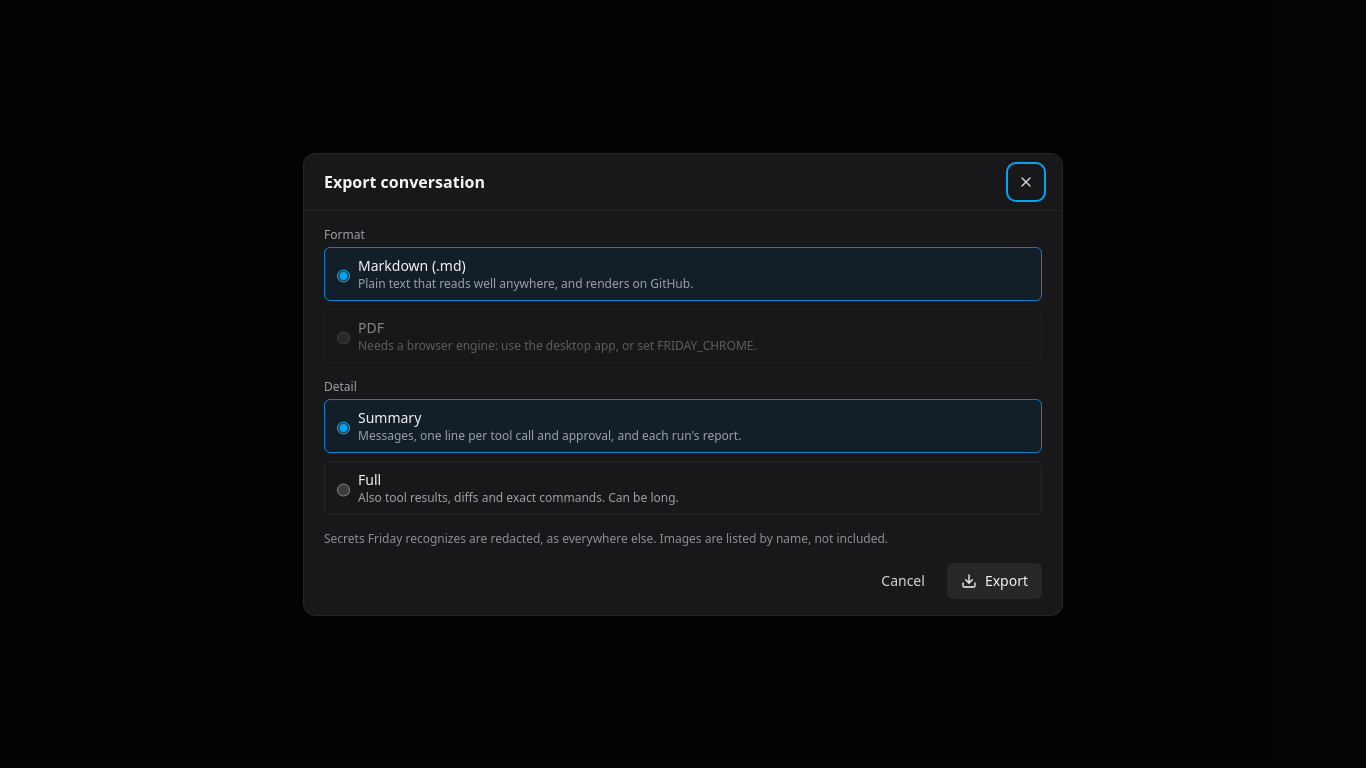
export dialog › offers only Markdown without a browser engine, and shows errors
Expected: the radio button labelled "PDF" is disabled, [337,322,350,354]
Expected: the text "Needs a browser engine" is shown, [358,336,757,354]
What coordinates should you click on to do the following:
click the button "Export"
I would click on:
 (994, 580)
Its box is [947,562,1042,598].
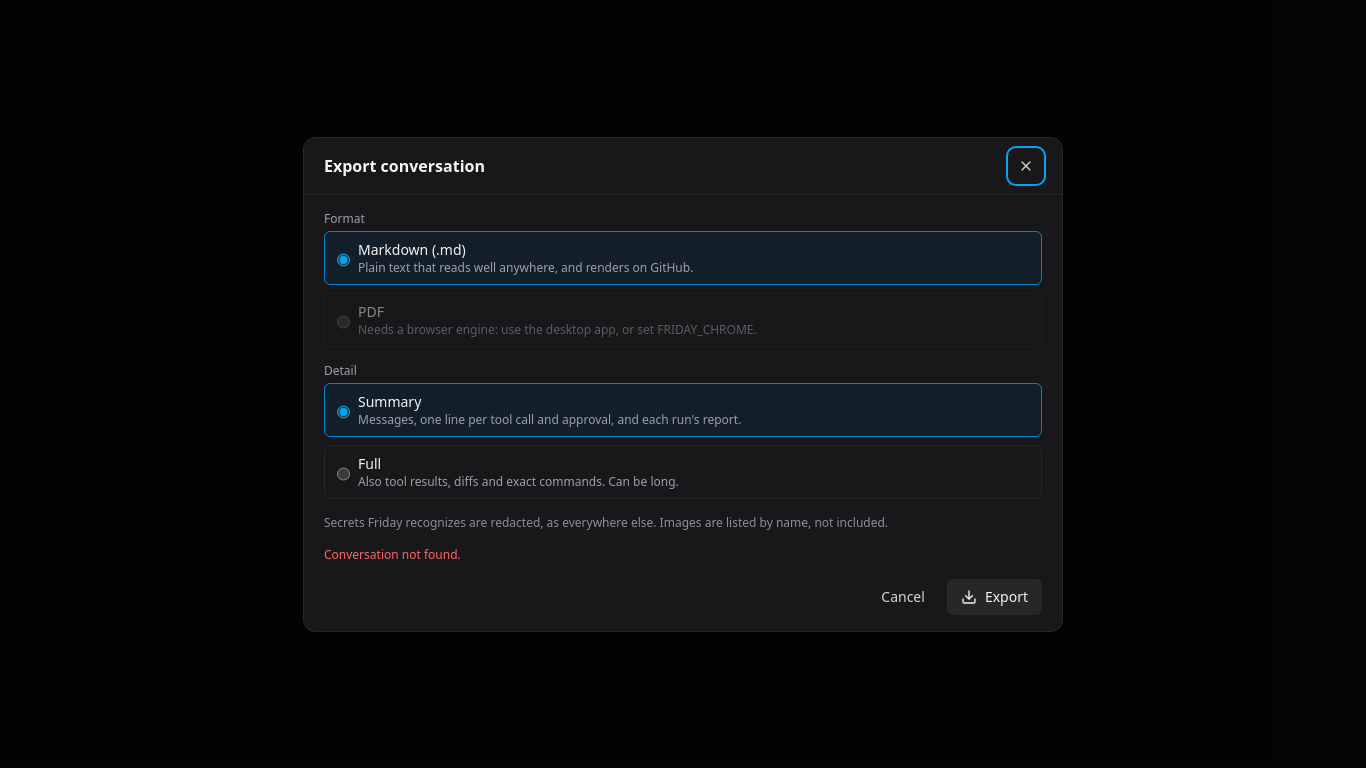
Expected: the message reads "Conversation not found.", [324,546,461,562]
